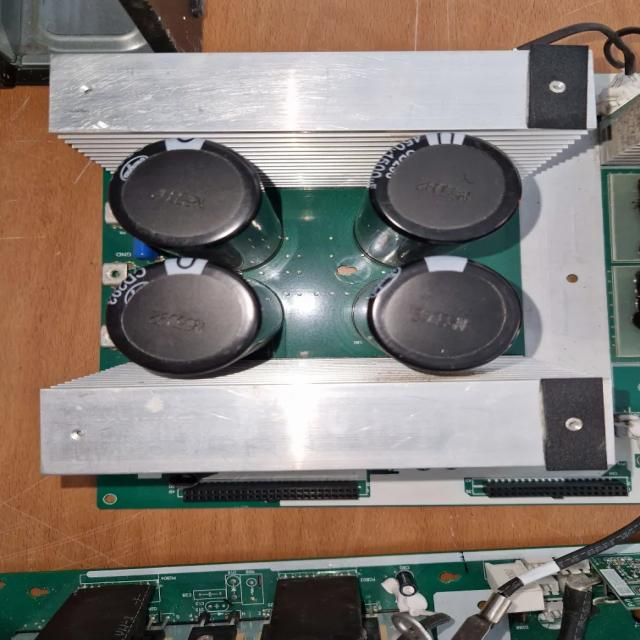C: (108, 136, 280, 264), (355, 134, 517, 262), (109, 262, 280, 374), (364, 260, 523, 372)
